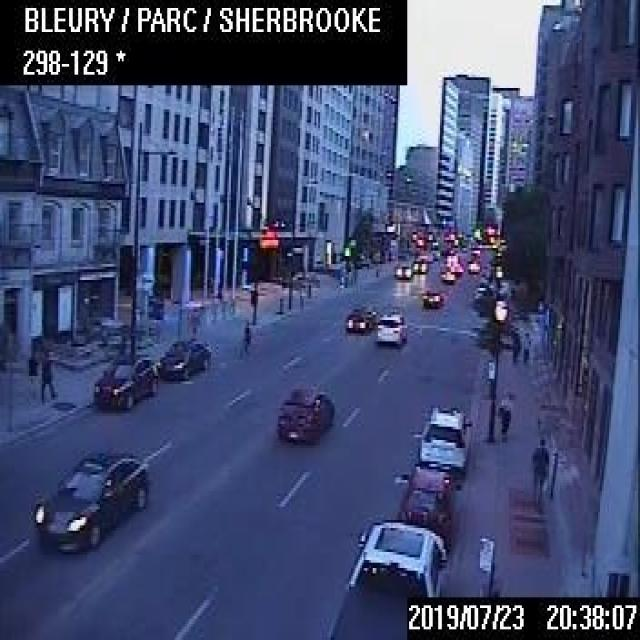pedestrian: (529, 437, 548, 504), (38, 347, 55, 400), (23, 346, 38, 399), (496, 392, 509, 440), (520, 327, 530, 362), (240, 320, 251, 350)
vehicle: (326, 518, 445, 637), (31, 443, 145, 552), (394, 462, 460, 543), (89, 351, 157, 408), (274, 382, 334, 444), (416, 403, 471, 468), (155, 338, 210, 378), (375, 305, 406, 344), (343, 302, 375, 332), (420, 285, 442, 308), (411, 253, 427, 272), (394, 262, 411, 278), (439, 263, 454, 281), (466, 256, 480, 272)
